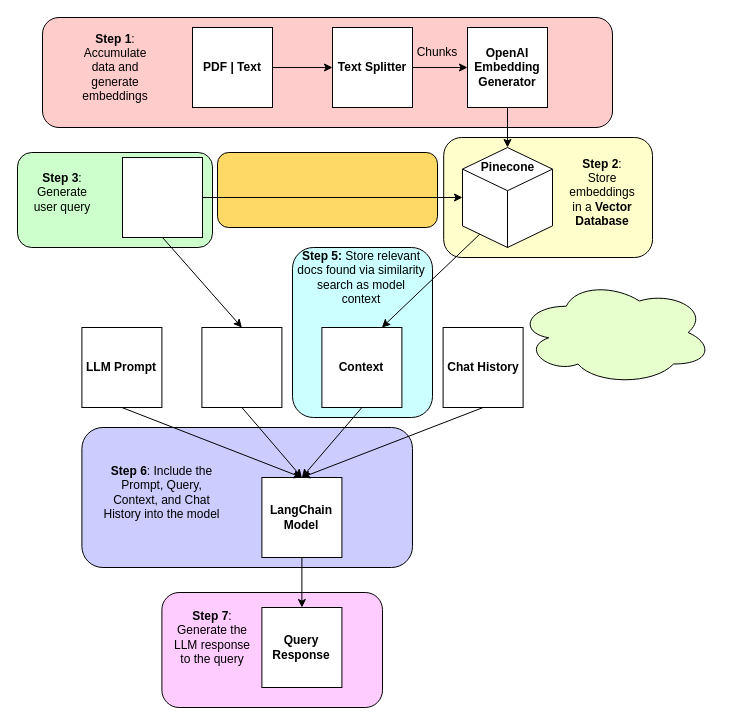
Some shapes in this 730 by 725 pixel diagram are drawn without their labels. The centre of each missing label's shape, as x and y in pixels:
Include the most recent k messages from chat history in the model: point 614,332
Query: point 241,367
Step 4 : Pass the query to Pinecone to find documents similar to the query: point 327,190
User Query: point 162,197
